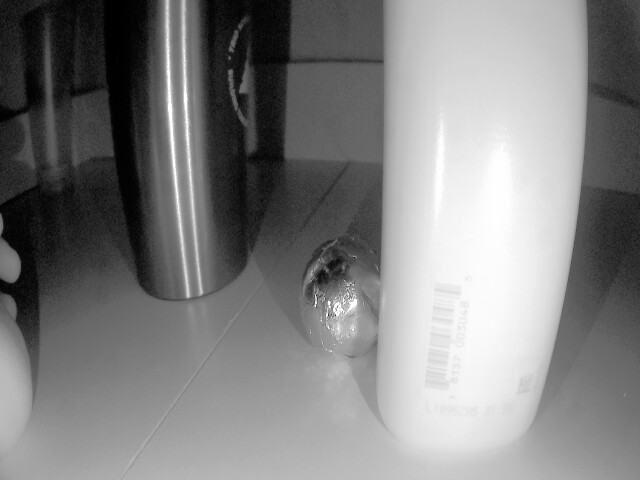silver: (288, 224, 387, 353)
